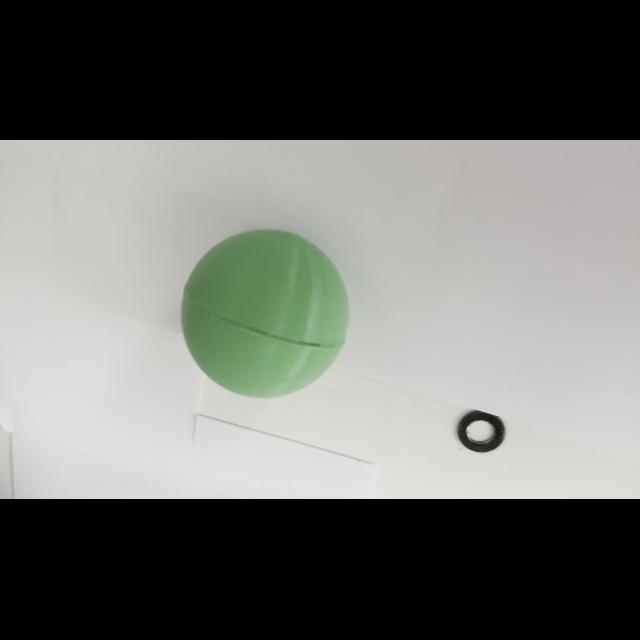objects: (178, 223, 354, 401)
